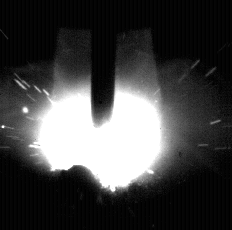arame: (91, 0, 116, 127)
poca: (39, 0, 162, 230)
